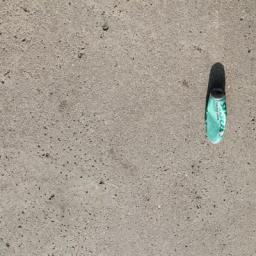FOD: (198, 56, 236, 152)
